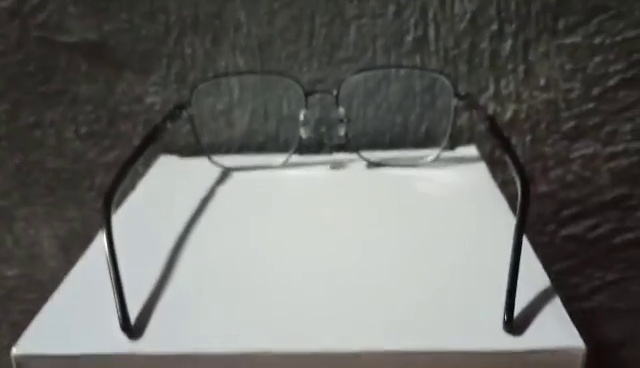glasses: (100, 60, 535, 343)
